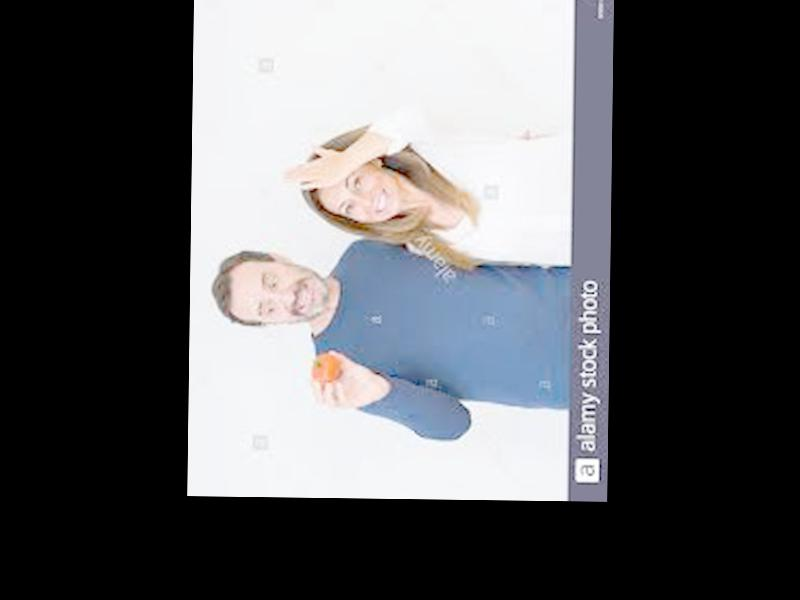Tomato: (308, 354, 339, 382)
